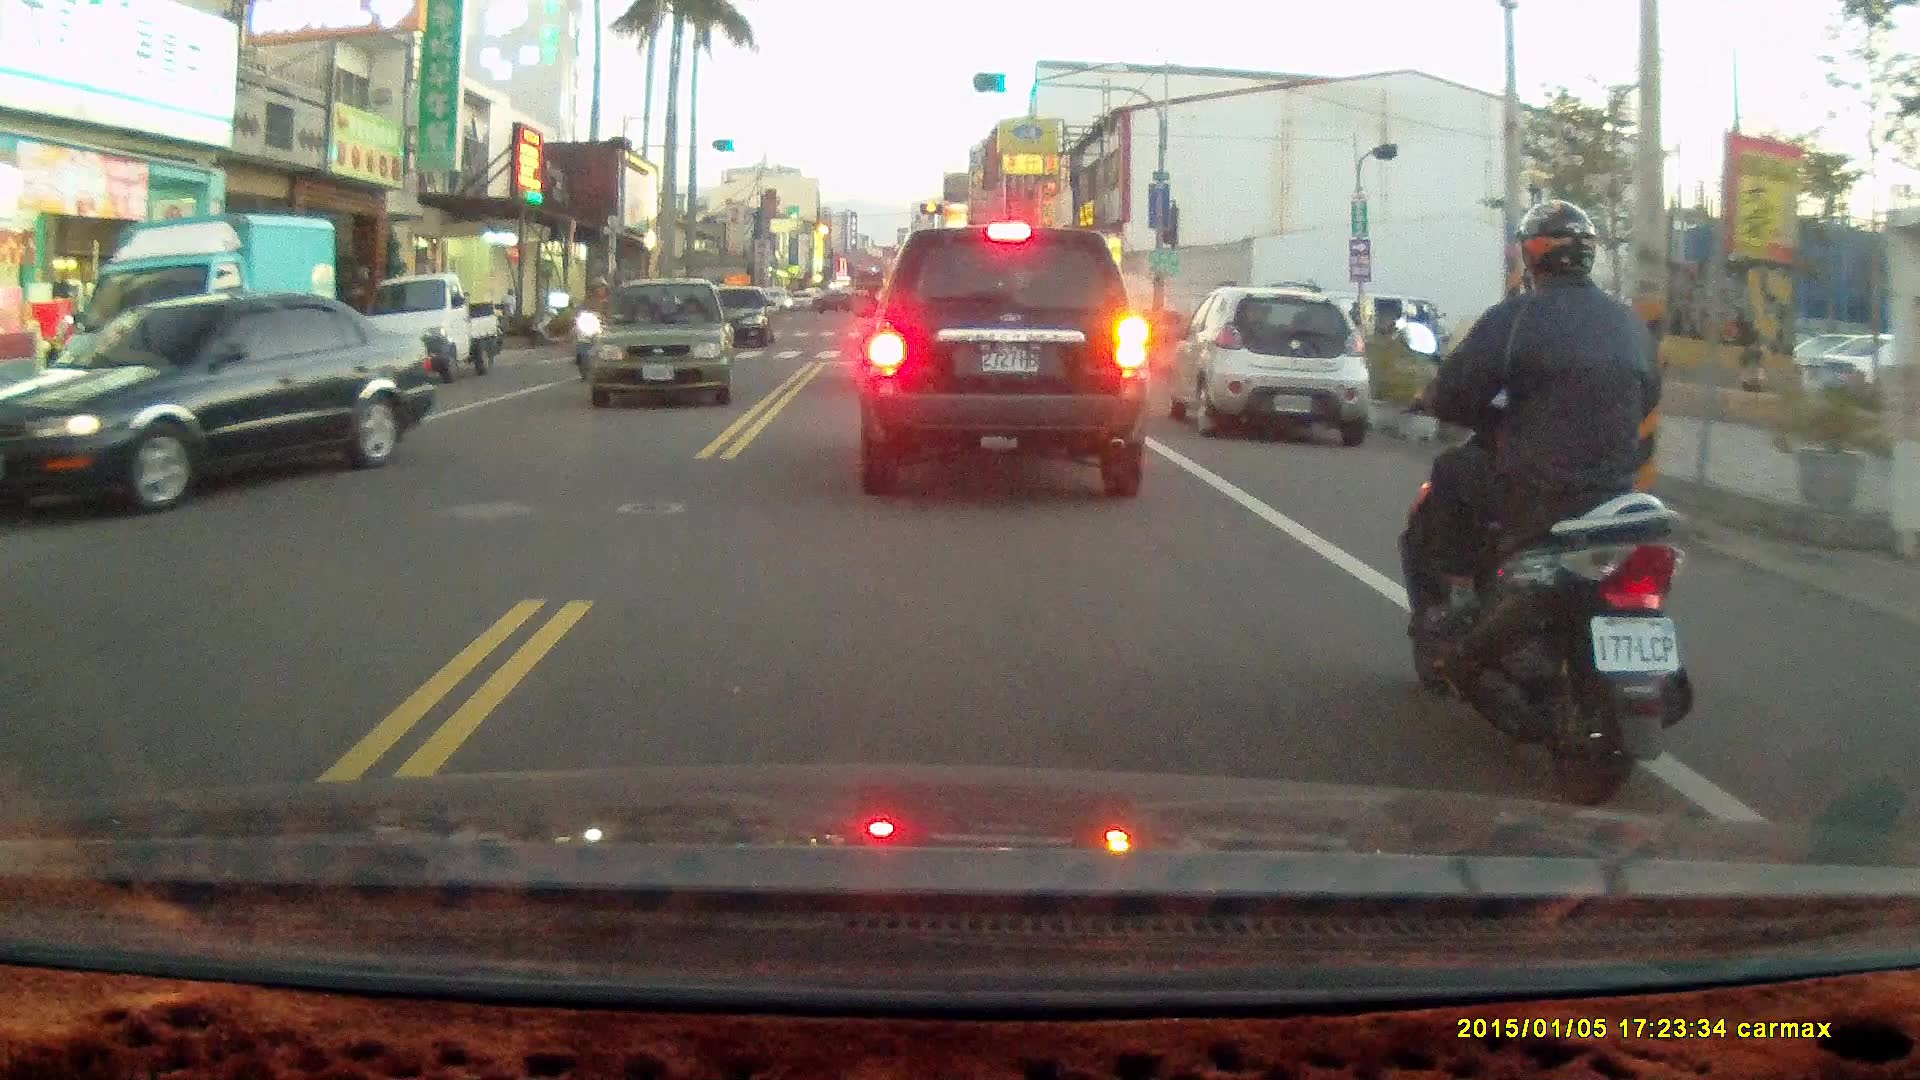rider: (1397, 195, 1698, 807), (566, 278, 616, 373)
vehicle: (1, 293, 446, 515), (856, 223, 1150, 501), (79, 214, 338, 445), (1177, 286, 1372, 445), (583, 274, 736, 411), (358, 269, 502, 382)
